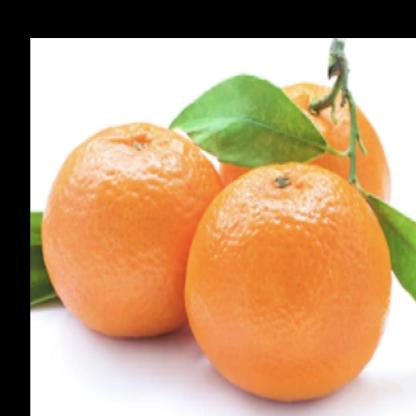fresh: (44, 45, 398, 416)
